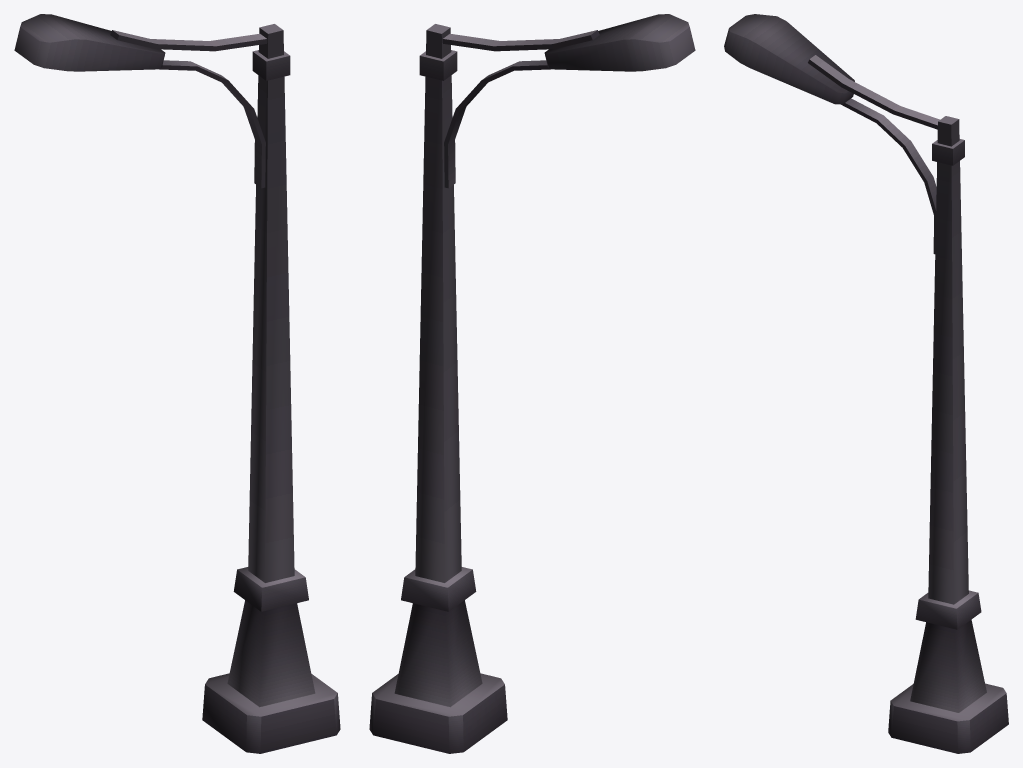
File: tc_streetlight_2a.glb
3 renders of one model, left to right at view 1: azimuth 30°, elevation 25°; view 2: azimuth 150°, elevation 25°; view 3: azimuth 330°, elevation 25°, orthographic. The views are drawn at different scales.
Visible parts, largest first — view 1: Streetlight_2A; view 2: Streetlight_2A; view 3: Streetlight_2A.
Part boxes in pixels (left/top/right/bottom): Streetlight_2A: left=14, top=14, right=340, bottom=753; Streetlight_2A: left=369, top=14, right=695, bottom=753; Streetlight_2A: left=724, top=14, right=1008, bottom=753.
Size of the model in its own units: 2.45 by 5.97 by 0.7851.
Materials: 1 (1 with a texture image).
